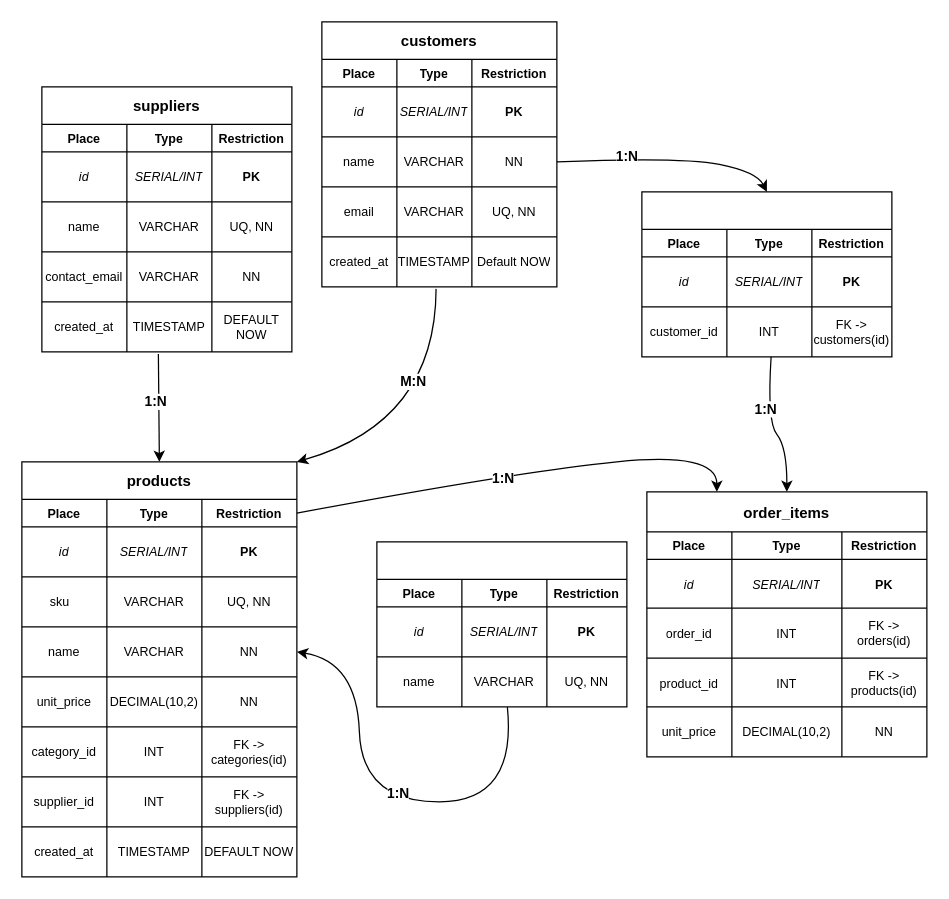
This 949x899 diagram has some shape labels left out. The box of each missing label's shape, as (x1, y1, x2, y2) in pixels:
categories: (376, 541, 627, 707)
orders: (641, 191, 892, 357)
